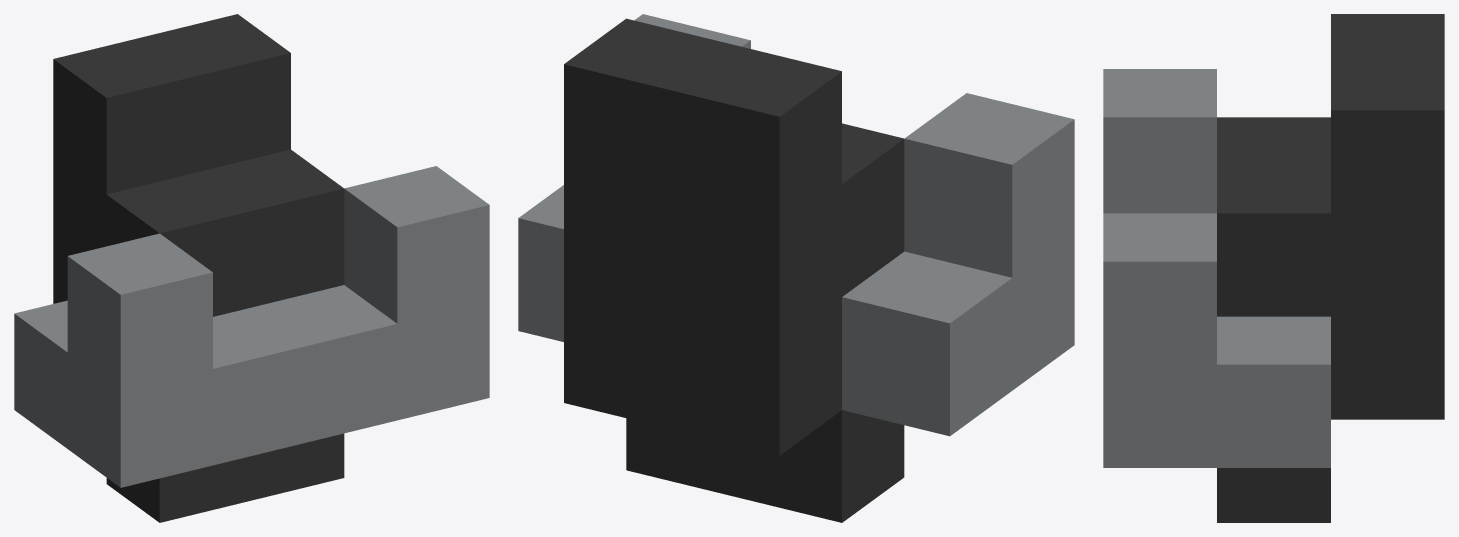
The model's file is Leg-14.obj.
The picture shows the model from 3 angles, left to right: view 1: azimuth 30°, elevation 25°; view 2: azimuth 150°, elevation 25°; view 3: azimuth 270°, elevation 25°; orthographic projection. The views are drawn at different scales.
Size of the model in its own units: 0.4 by 0.4 by 0.3.
1 material, 1 textured.
